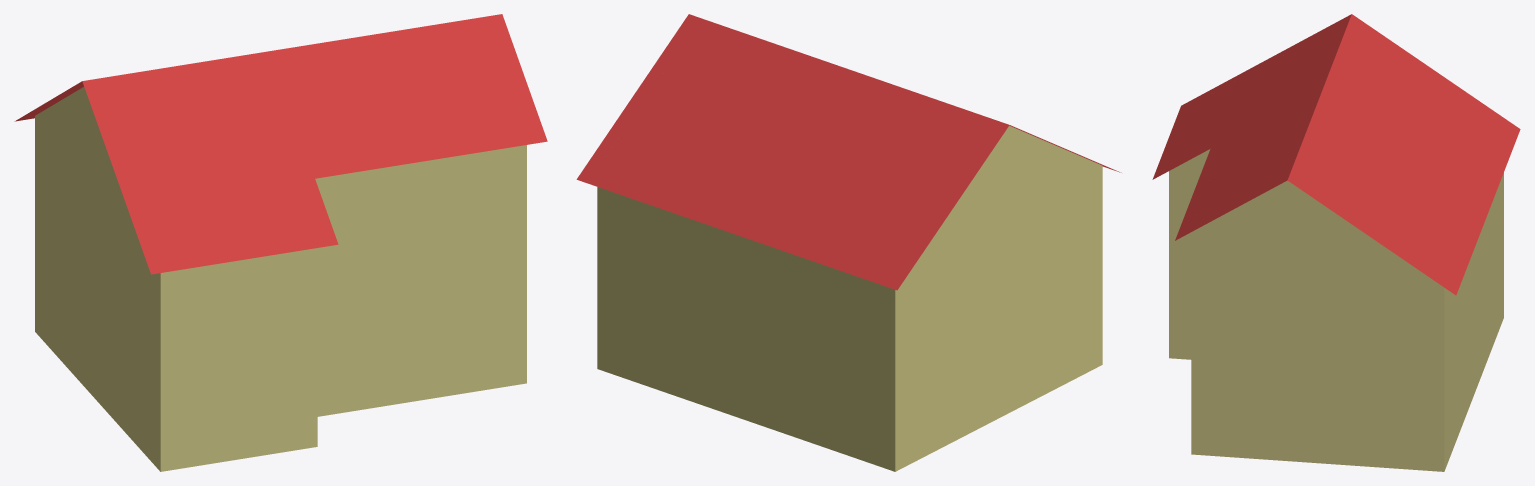
3 renders of one model, left to right at view 1: azimuth 30°, elevation 25°; view 2: azimuth 150°, elevation 25°; view 3: azimuth 270°, elevation 25°, orthographic. The views are drawn at different scales.
Size of the model in its own units: 15.66 by 12.83 by 11.02.
